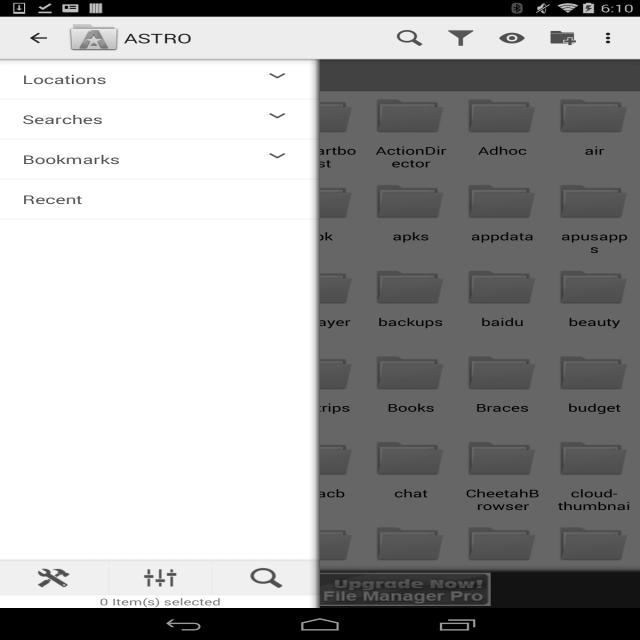ImageButton: (9, 19, 68, 57)
ImageView: (149, 573, 491, 606), (186, 94, 268, 142), (186, 179, 268, 227), (186, 264, 268, 312), (186, 436, 268, 484), (186, 522, 268, 570), (95, 94, 176, 142), (278, 94, 359, 142), (370, 94, 451, 142), (462, 94, 543, 142), (3, 179, 84, 227), (95, 179, 176, 227), (278, 179, 359, 227), (370, 179, 451, 227), (462, 179, 543, 227), (3, 264, 84, 312), (95, 264, 176, 312), (278, 264, 359, 312), (370, 264, 451, 312), (462, 264, 543, 312), (3, 436, 84, 484), (95, 436, 176, 484), (278, 436, 359, 484), (370, 436, 451, 484), (462, 436, 543, 484), (3, 522, 84, 570), (95, 522, 176, 570), (278, 522, 359, 570), (370, 522, 451, 570), (462, 522, 543, 570), (186, 351, 268, 398), (554, 94, 634, 142), (554, 179, 634, 227), (554, 264, 634, 312), (554, 436, 634, 484), (554, 522, 634, 570), (3, 351, 84, 398), (95, 351, 176, 398), (278, 351, 359, 398), (370, 351, 451, 398), (462, 351, 543, 398), (554, 351, 634, 398), (0, 562, 108, 594), (213, 562, 320, 594), (110, 562, 211, 594), (0, 59, 51, 92), (68, 22, 120, 54), (589, 22, 631, 54), (243, 68, 312, 84), (243, 108, 312, 124), (243, 148, 312, 164)
TextView: (17, 188, 320, 210), (17, 68, 243, 90), (17, 108, 243, 130), (17, 148, 243, 170), (0, 595, 320, 608), (186, 227, 268, 258), (186, 312, 268, 343), (186, 398, 268, 429), (186, 484, 268, 515), (186, 569, 268, 600), (3, 227, 84, 258), (95, 227, 176, 258), (278, 227, 359, 258), (370, 227, 451, 258), (462, 227, 543, 258), (3, 312, 84, 343), (95, 312, 176, 343), (278, 312, 359, 343), (370, 312, 451, 343), (462, 312, 543, 343), (3, 398, 84, 429), (95, 398, 176, 429), (278, 398, 359, 429), (370, 398, 451, 429), (462, 398, 543, 429), (3, 484, 84, 515), (95, 484, 176, 515), (278, 484, 359, 515), (370, 484, 451, 515), (462, 484, 543, 515), (278, 569, 359, 600), (370, 569, 451, 600), (462, 569, 543, 600), (554, 227, 634, 258), (554, 312, 634, 343), (554, 398, 634, 429), (554, 484, 634, 515), (186, 142, 268, 172), (95, 142, 176, 172), (278, 142, 359, 172), (370, 142, 451, 172), (462, 142, 543, 172), (3, 570, 84, 600), (95, 570, 176, 600), (554, 142, 634, 172), (554, 570, 634, 600), (384, 22, 435, 54), (487, 22, 538, 54), (436, 22, 486, 54), (538, 22, 588, 54), (124, 29, 192, 47)
